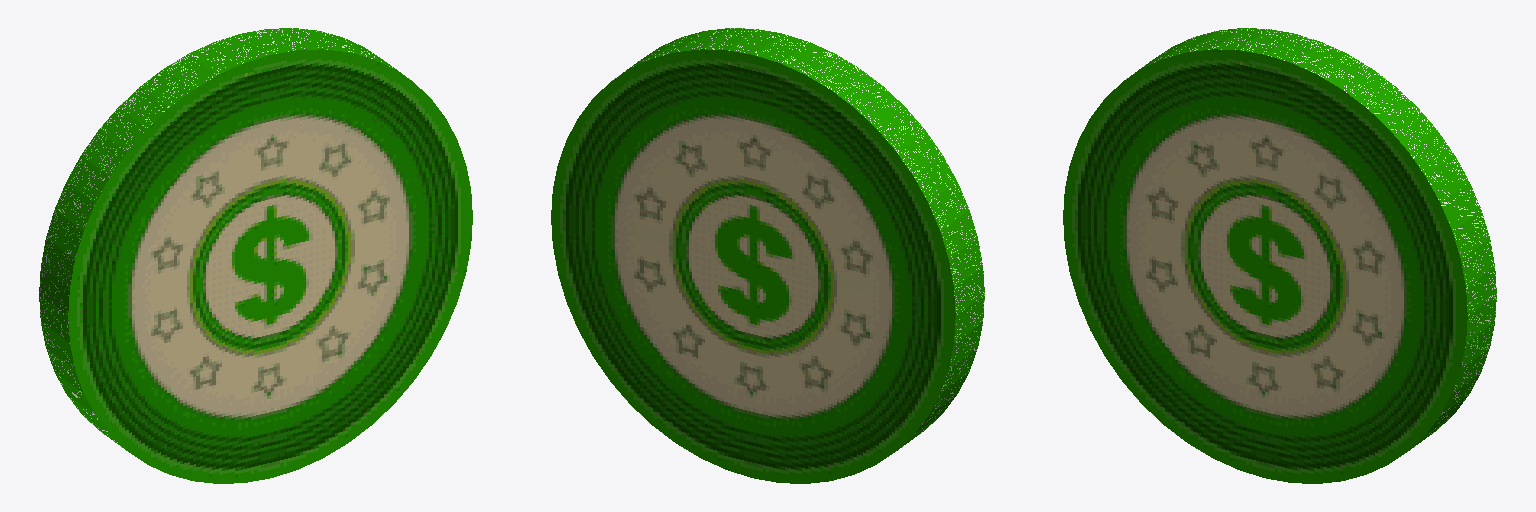
3 renders of one model, left to right at view 1: azimuth 30°, elevation 25°; view 2: azimuth 150°, elevation 25°; view 3: azimuth 330°, elevation 25°, orthographic.
Bounding box in the file's own units: 5 × 5 × 0.625.
1 materials, 1 textured.